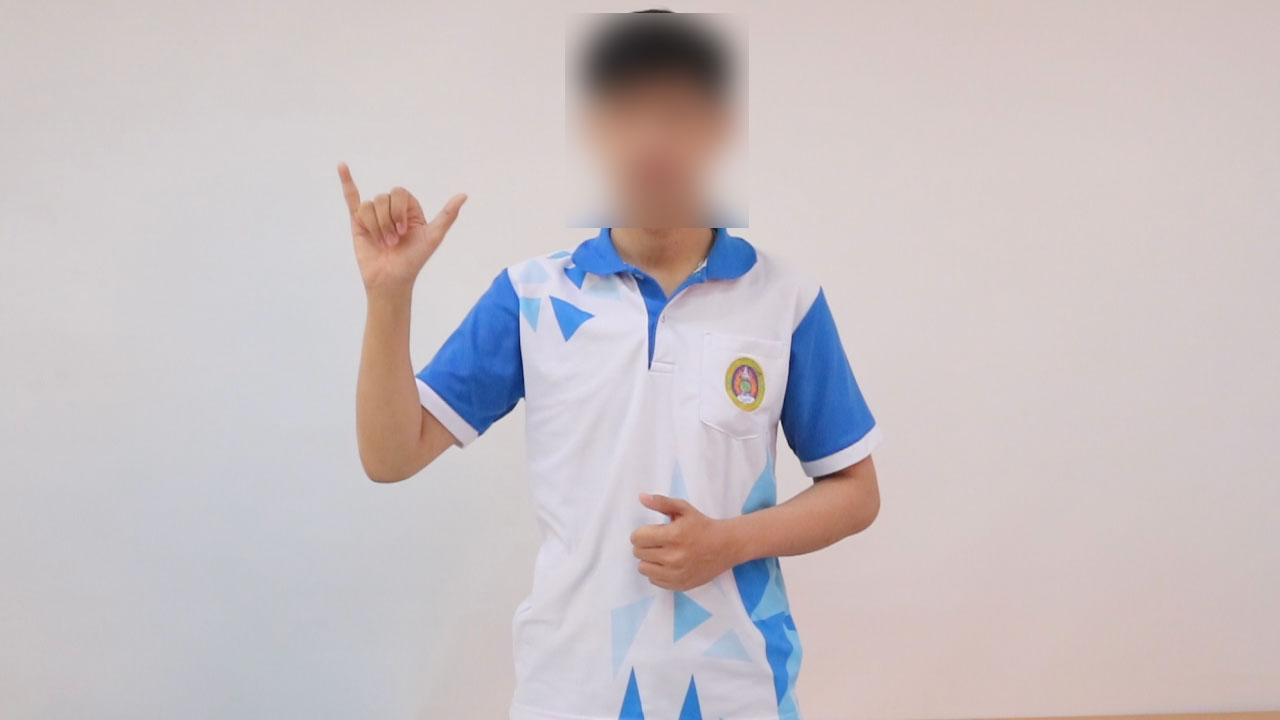yor: (329, 156, 472, 294)
